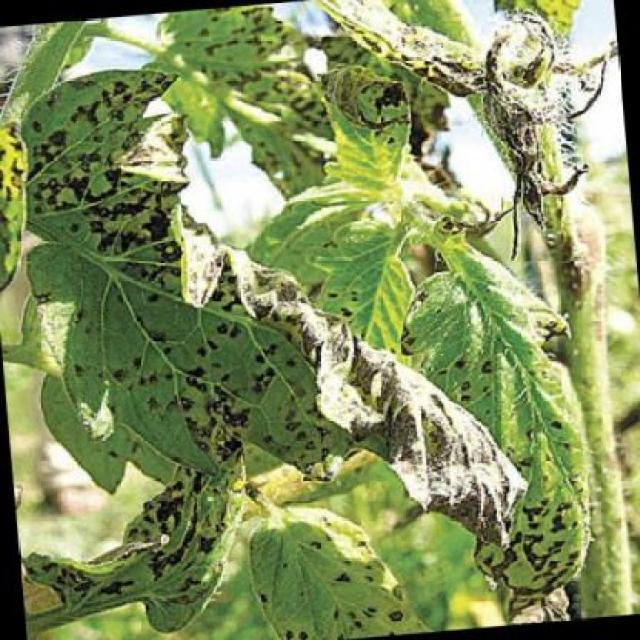Septoria leaf spot: (4, 47, 527, 563), (392, 227, 640, 620), (235, 492, 453, 640)
